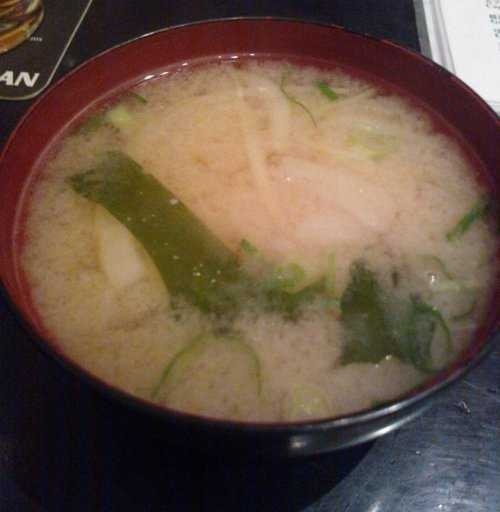soup: (13, 55, 500, 435)
